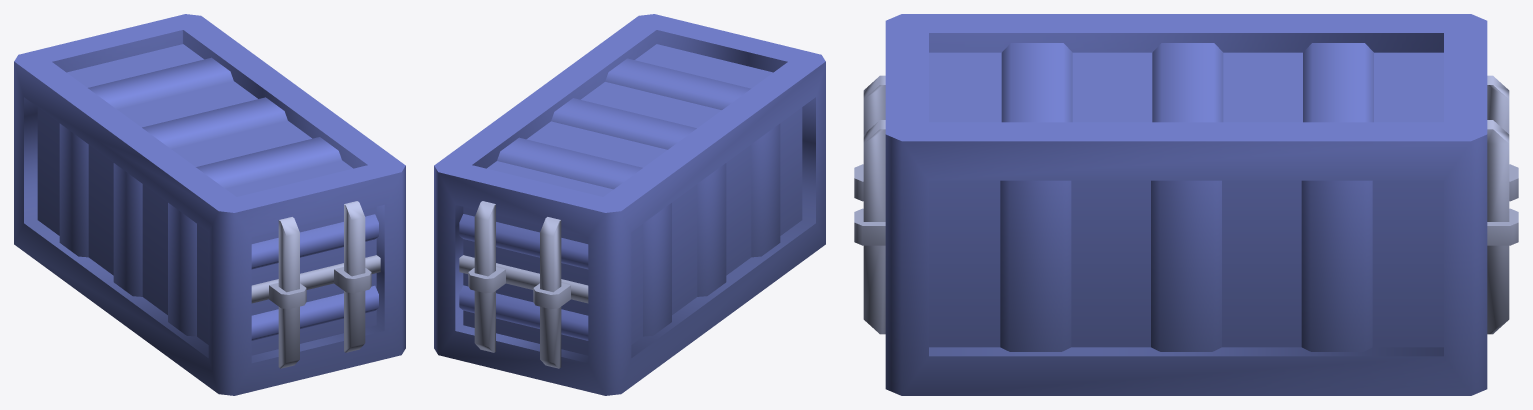
The model's file is container_1.fbx.
The picture shows the model from 3 angles, left to right: view 1: azimuth 30°, elevation 25°; view 2: azimuth 150°, elevation 25°; view 3: azimuth 270°, elevation 25°; orthographic projection. The views are drawn at different scales.
Visible parts, largest first — view 1: container_1; view 2: container_1; view 3: container_1.
Part boxes in pixels (x1,y1,x2,y2): container_1: (14,14,405,395); container_1: (434,14,825,395); container_1: (854,14,1518,395).
Size of the model in its own units: 0.3726 by 0.3481 by 0.8226.
Materials: 2 (2 with a texture image).
